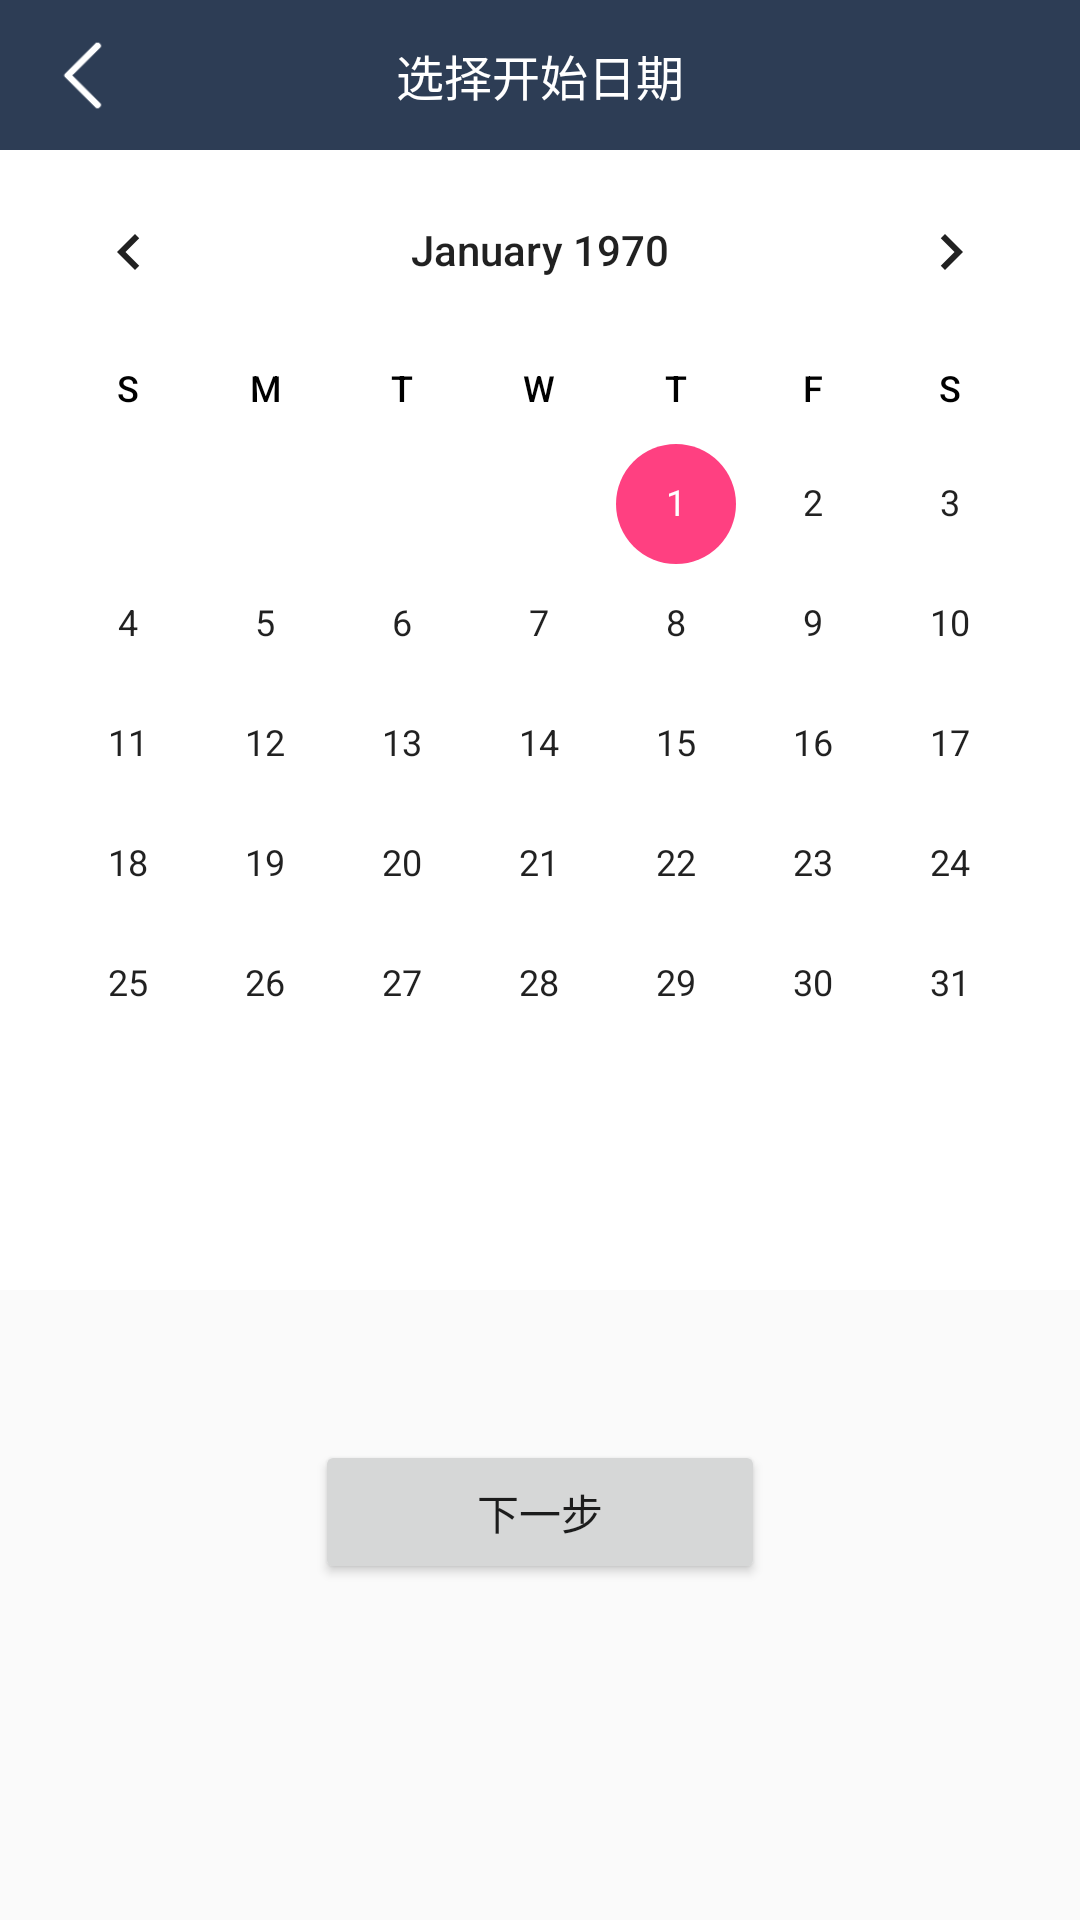

Screen size 1080x1920. Icon name, then its center in pixels as point (x, y):
back: point (82, 75)
